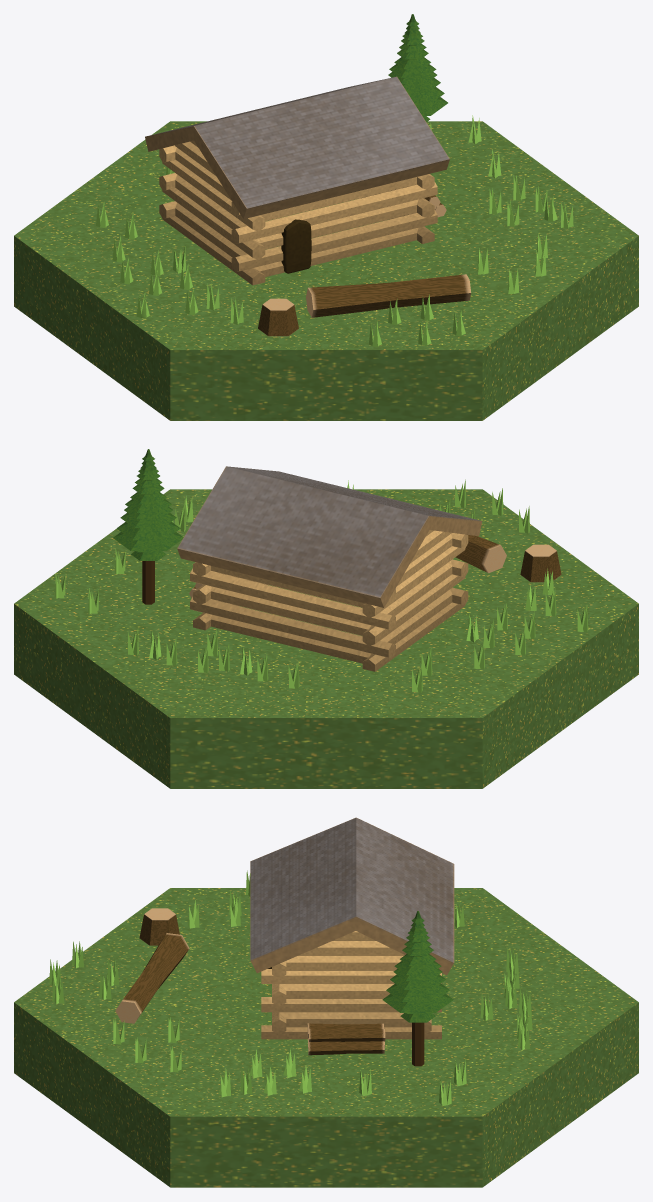
Rendered from Hex_Cabin_Test.fbx.
3 renders of one model, top to bottom at view 1: azimuth 30°, elevation 25°; view 2: azimuth 150°, elevation 25°; view 3: azimuth 270°, elevation 25°, orthographic.
Visible parts, largest first — view 1: Hex Tile.003, Cabin, Grass.002, Log Long, Tree Tall.006, Log Stump; view 2: Hex Tile.003, Cabin, Grass.002, Tree Tall.006, Log Long, Log Stump; view 3: Hex Tile.003, Cabin, Grass.002, Log Long, Tree Tall.006, Log Stump.
Part boxes in pixels (x1=…): Hex Tile.003: x1=14, y1=121, x2=638, y2=420; Cabin: x1=145, y1=76, x2=449, y2=285; Grass.002: x1=96, y1=115, x2=573, y2=347; Log Long: x1=306, y1=195, x2=471, y2=317; Tree Tall.006: x1=388, y1=14, x2=447, y2=121; Log Stump: x1=258, y1=298, x2=298, y2=336; Hex Tile.003: x1=14, y1=489, x2=638, y2=788; Cabin: x1=177, y1=466, x2=482, y2=671; Grass.002: x1=54, y1=479, x2=588, y2=692; Tree Tall.006: x1=113, y1=449, x2=183, y2=604; Log Long: x1=189, y1=534, x2=506, y2=598; Log Stump: x1=520, y1=544, x2=561, y2=582; Hex Tile.003: x1=14, y1=888, x2=638, y2=1187; Cabin: x1=250, y1=817, x2=454, y2=1039; Grass.002: x1=49, y1=870, x2=532, y2=1105; Log Long: x1=115, y1=933, x2=385, y2=1055; Tree Tall.006: x1=382, y1=911, x2=453, y2=1066; Log Stump: x1=139, y1=908, x2=179, y2=945.
Bounding box in the file's own units: 346 × 160 × 400.
9 materials, 9 textured.
